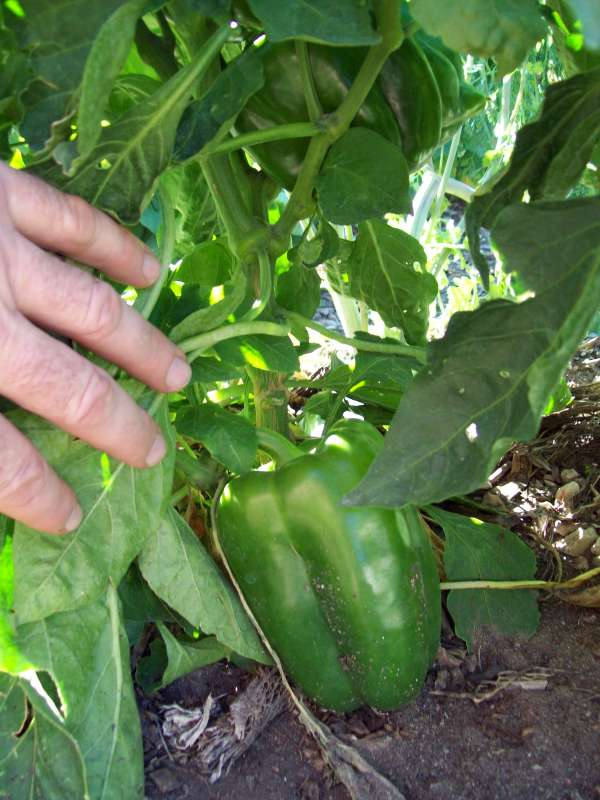capsicum: (212, 424, 444, 716), (230, 12, 452, 184)
